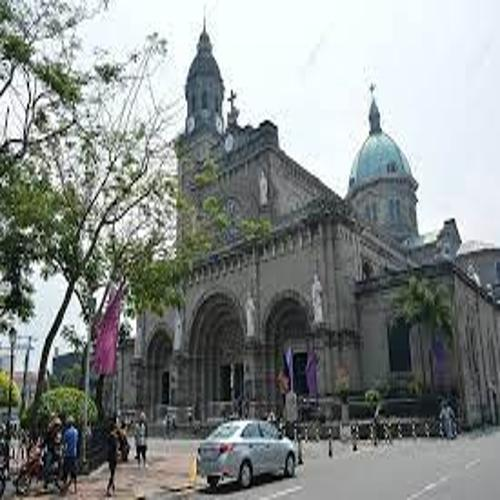Manila Cathedral Church: (51, 5, 500, 446)
